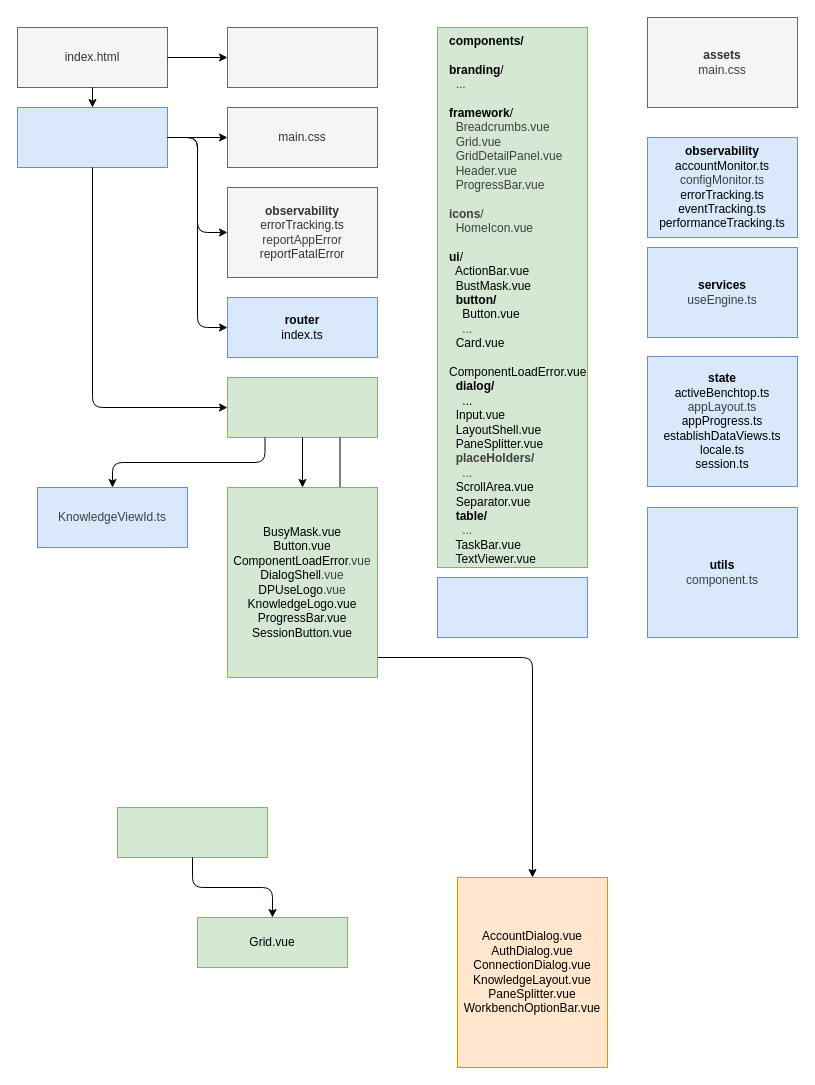
Image size: 815x1085. Some labels were removed from this diagram. The centre of each missing label's shape, as x and y in pixels:
<script> appearance: point 302,57
App.(vue, json): point 302,407
composables useBreadcrumbs.ts useDataWindow.ts: point 512,607
GridDetailPanel.vue: point 192,832
main.ts: point 92,137
